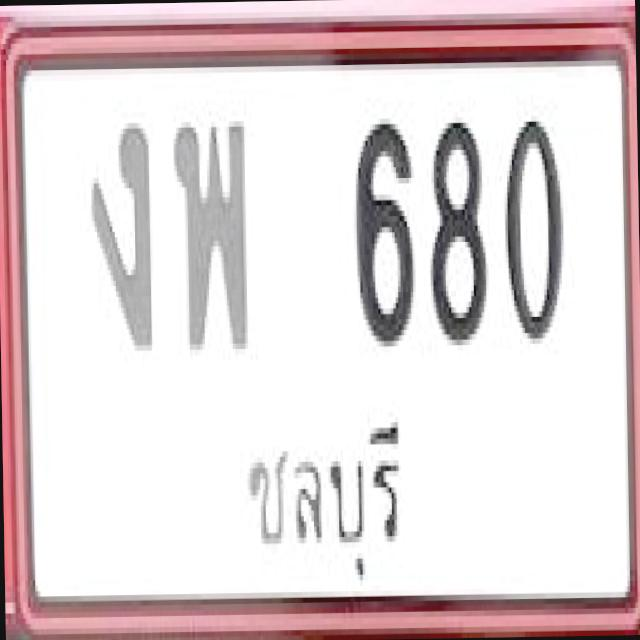license_plate: (1, 21, 640, 640)
